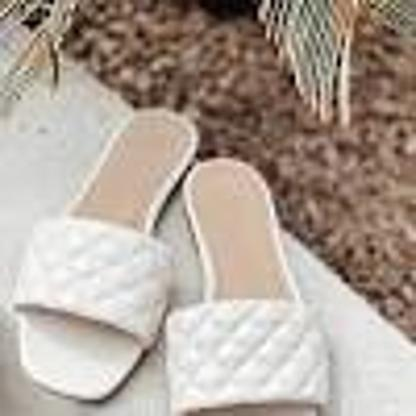not trash: (14, 109, 192, 399), (169, 160, 322, 416)
